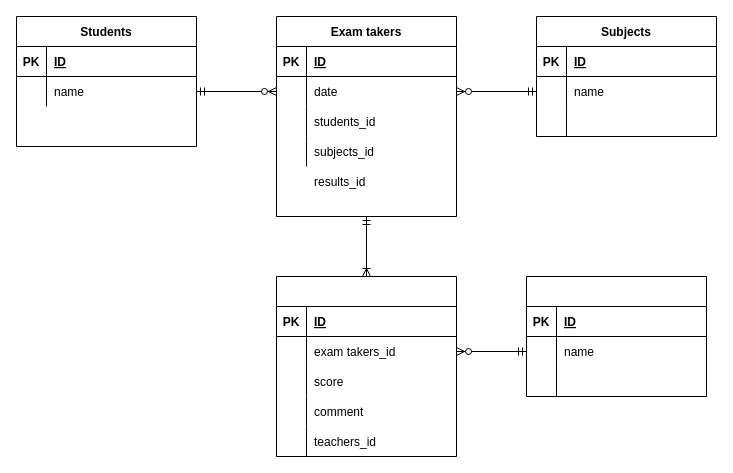
Some shapes in this 733 by 473 pixel diagram are drawn without their labels. Each missing label, with the box of its shape:
Results: (276, 276, 456, 456)
Teachers: (526, 276, 706, 396)
